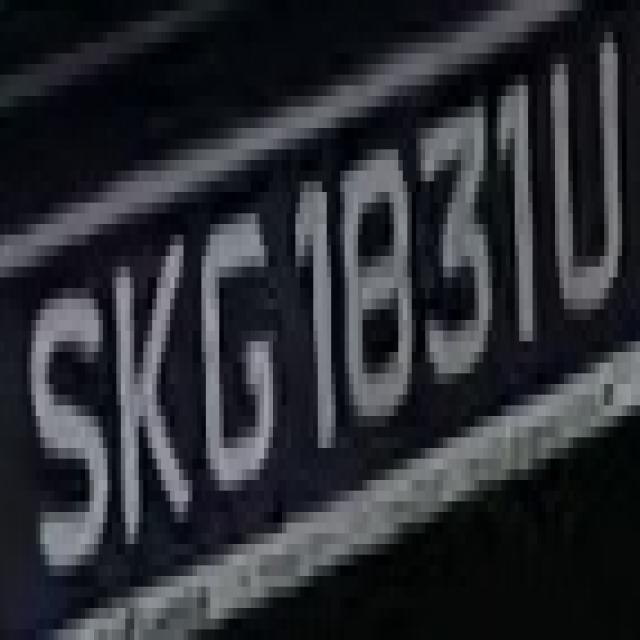1: (488, 53, 546, 384), (300, 149, 349, 480)
3: (408, 64, 492, 427)
8: (336, 139, 430, 448)
G: (175, 202, 282, 522)
K: (103, 181, 201, 555)
S: (18, 277, 103, 576)
U: (551, 21, 631, 342)
